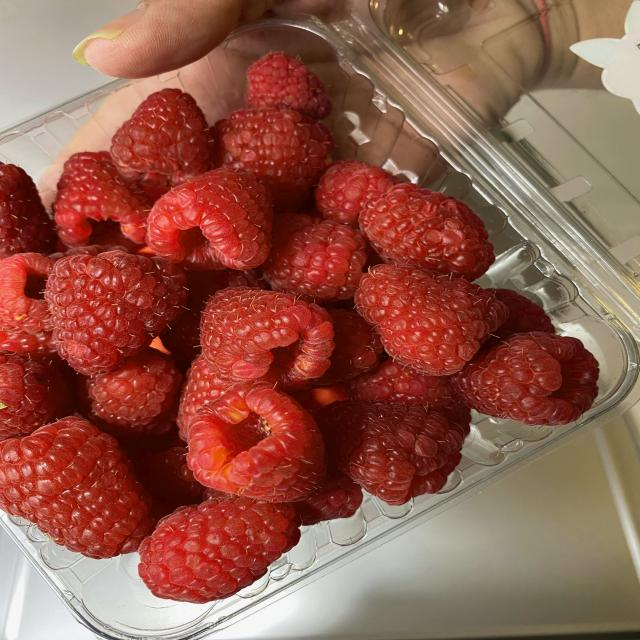Raspberry: (33, 79, 534, 578)
